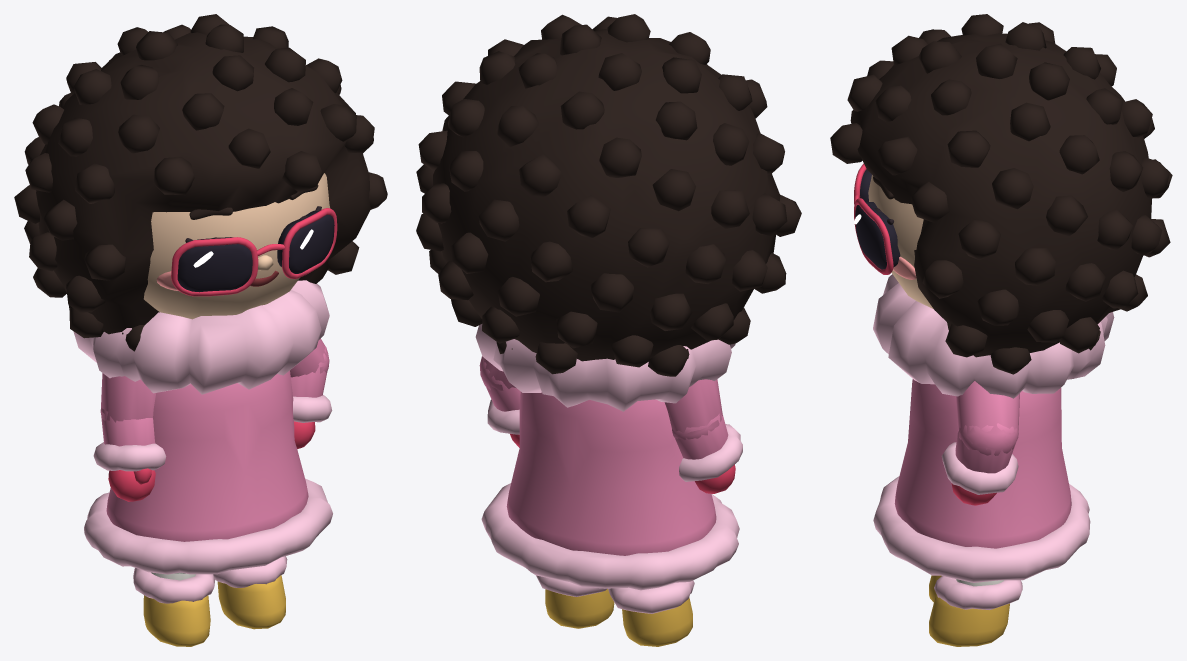
The model's file is npc_fashion.glb.
The picture shows the model from 3 angles, left to right: view 1: azimuth 30°, elevation 25°; view 2: azimuth 150°, elevation 25°; view 3: azimuth 270°, elevation 25°; orthographic projection. The views are drawn at different scales.
Visible parts, largest first — view 1: head_body, spine_body, chest_body, head_shades, knee_R_body, knee_L_body, el_R_body, uarm_R, el_L_body, hand_R_body, uarm_L; view 2: head_body, spine_body, chest_body, knee_R_body, el_R_body, knee_L_body, uarm_R, el_L_body, hand_R_body; view 3: head_body, spine_body, chest_body, knee_L_body, el_L_body, uarm_L, head_shades.
Boxes of the visible parts, x1,y1,x2,y2 form: head_body: [14, 14, 387, 351]; spine_body: [84, 370, 332, 574]; chest_body: [73, 280, 329, 394]; head_shades: [171, 208, 337, 296]; knee_R_body: [133, 568, 214, 646]; knee_L_body: [213, 556, 287, 629]; el_R_body: [93, 408, 166, 471]; uarm_R: [100, 373, 155, 422]; el_L_body: [290, 345, 332, 422]; hand_R_body: [108, 468, 155, 501]; uarm_L: [290, 338, 329, 377]; head_body: [416, 14, 801, 376]; spine_body: [481, 392, 739, 590]; chest_body: [475, 324, 735, 411]; knee_R_body: [608, 580, 694, 646]; el_R_body: [672, 413, 742, 481]; knee_L_body: [536, 575, 614, 628]; uarm_R: [664, 379, 722, 440]; el_L_body: [479, 357, 520, 434]; hand_R_body: [695, 464, 735, 493]; head_body: [830, 14, 1172, 374]; spine_body: [873, 379, 1090, 582]; chest_body: [873, 274, 1114, 398]; knee_L_body: [929, 576, 1022, 646]; el_L_body: [941, 423, 1018, 494]; uarm_L: [956, 381, 1019, 455]; head_shades: [854, 163, 900, 274].
Size of what is drawn, in the model's own units: 0.8665 by 1.49 by 0.7871.
